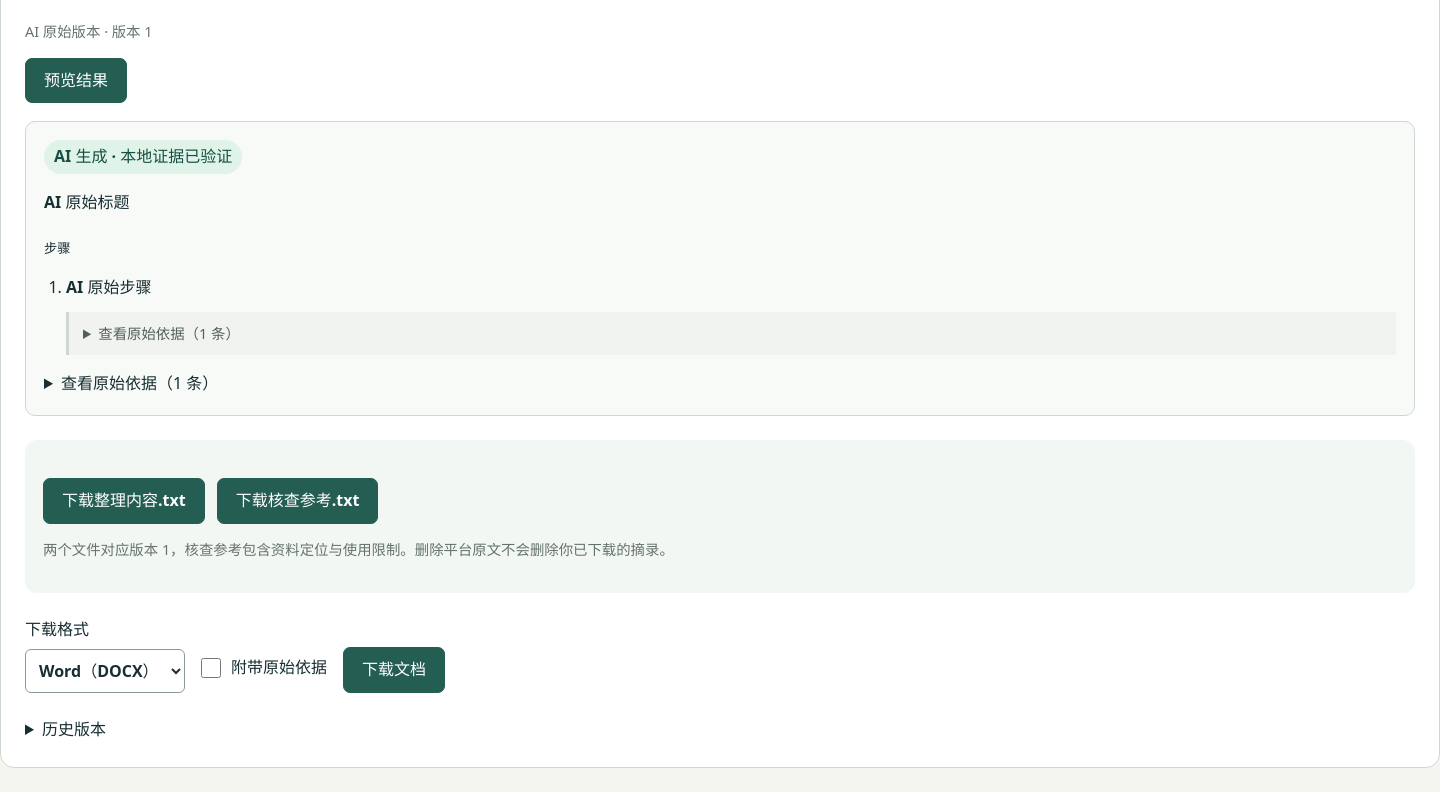
Test: 无文件选择 API 时发起真实浏览器下载，不声称能控制本地目录
(page scrolled)
What coordinates should you click on to do the following:
click the button "下载文档"
I would click on:
 (394, 670)
Its box is [343,648,445,693].
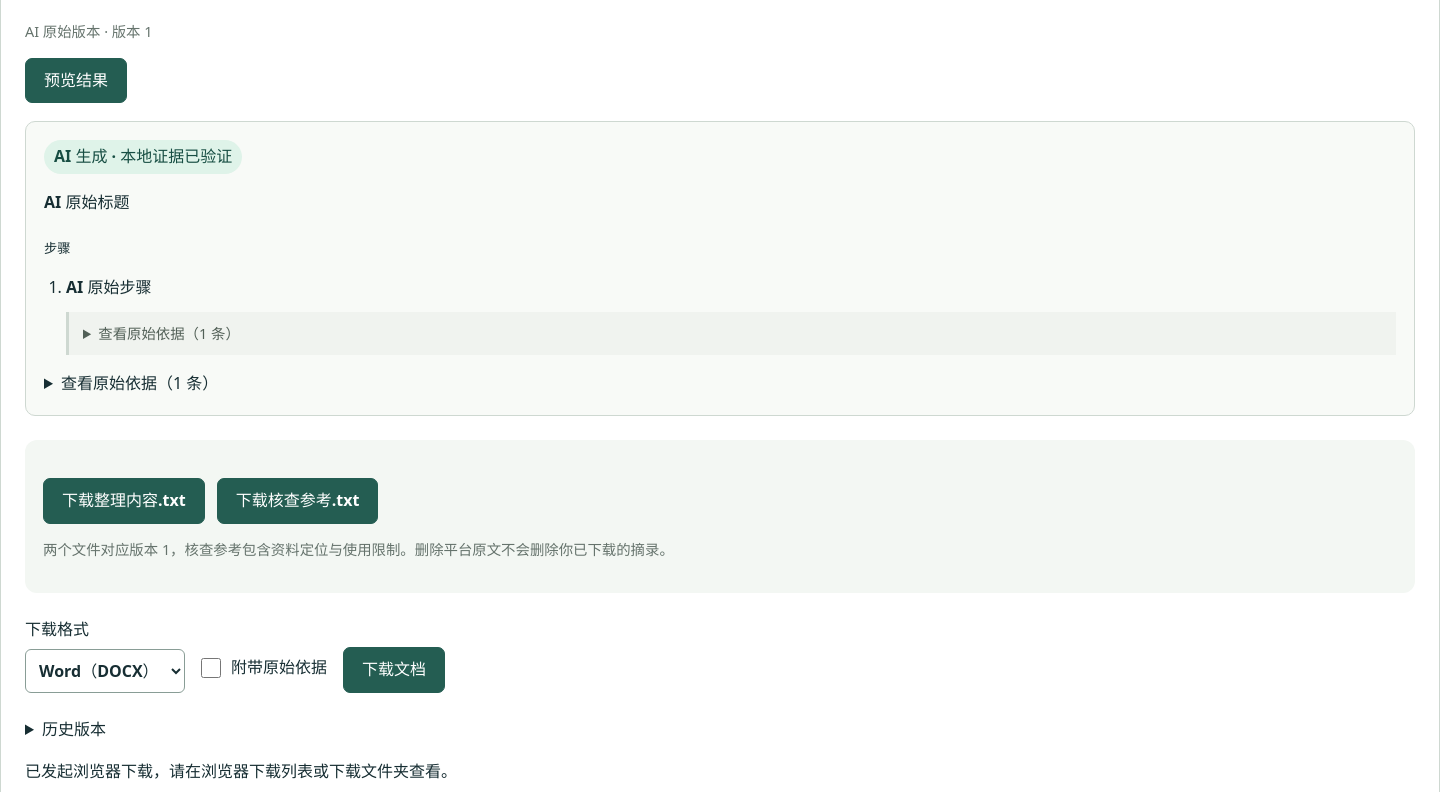
Expected: the text "已发起浏览器下载，请在浏览器下载列表或下载文件夹查看。" is shown, [25,760,457,782]
